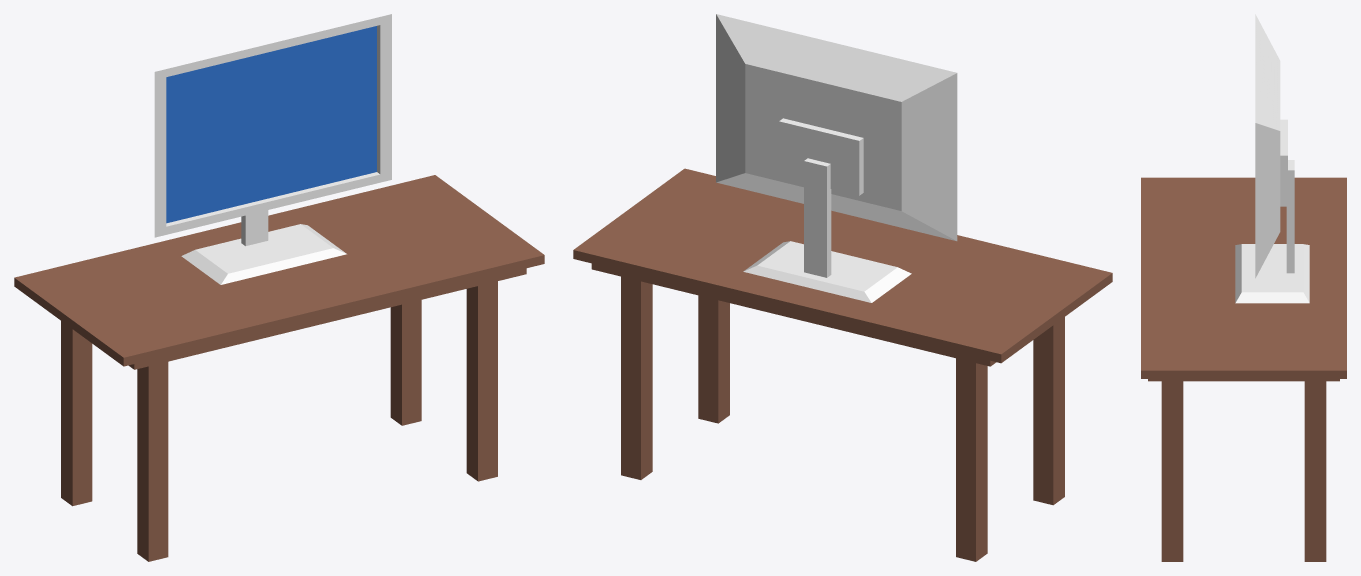
Rendered from computer.glb.
The picture shows the model from 3 angles, left to right: view 1: azimuth 30°, elevation 25°; view 2: azimuth 150°, elevation 25°; view 3: azimuth 270°, elevation 25°; orthographic projection. The views are drawn at different scales.
Visible parts, largest first — view 1: desk, computer; view 2: desk, computer; view 3: desk, computer.
Part boxes in pixels (x1,y1,x2,y2): desk: (14, 175, 544, 561); computer: (154, 14, 391, 284); desk: (573, 168, 1112, 561); computer: (716, 14, 957, 302); desk: (1141, 177, 1346, 561); computer: (1235, 14, 1309, 303).
Size of the model in its own units: 12.78 by 12.76 by 5.76.
